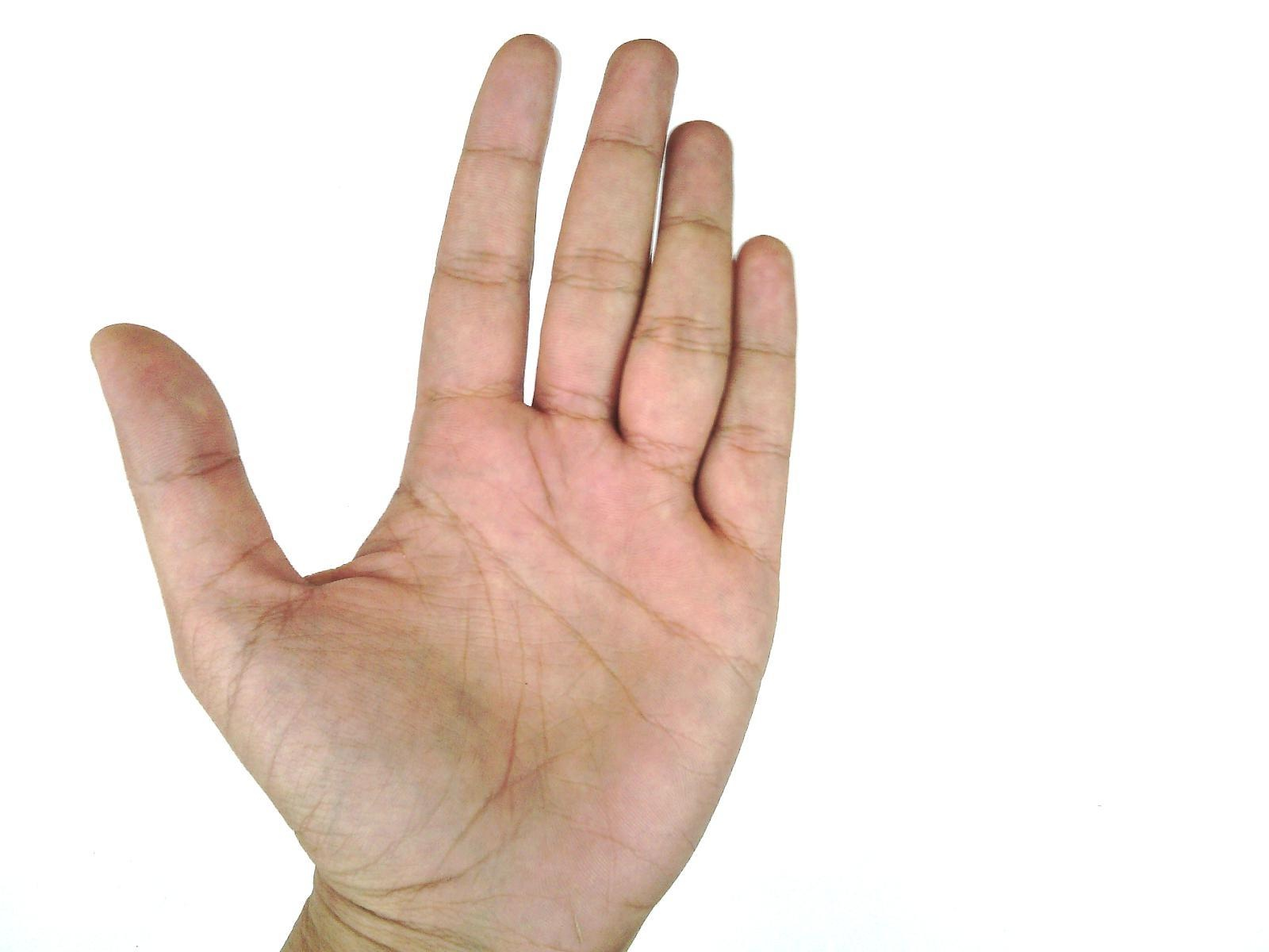open_palm: (88, 31, 802, 950)
